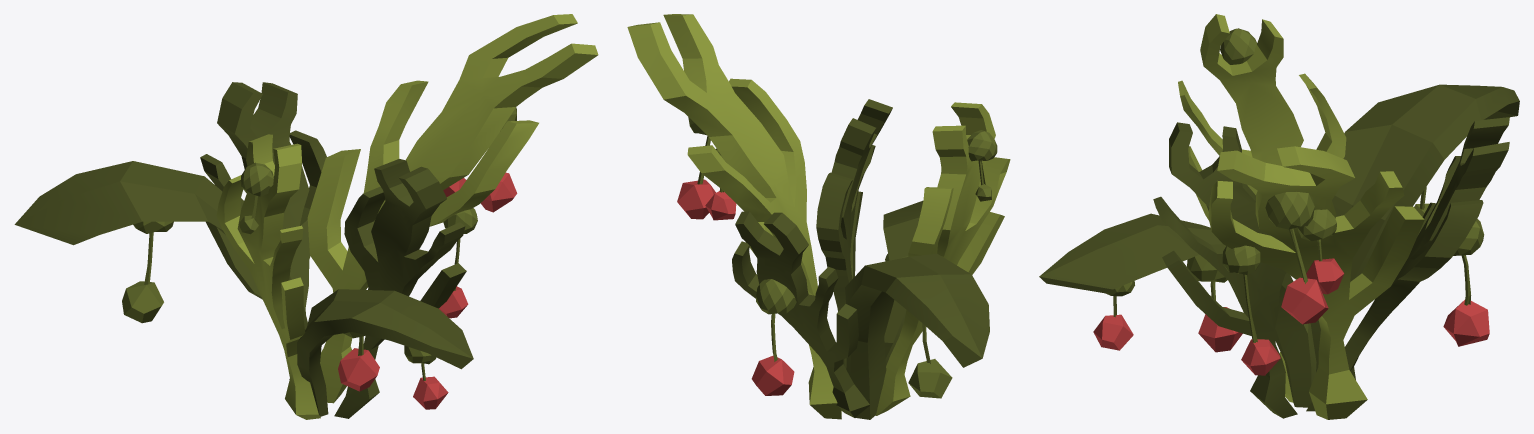
The model's file is ea_swamp_leaffruits_01a_pre_8_lev1.glb.
3 views of the same model, side by side, from view 1: azimuth 30°, elevation 25°; view 2: azimuth 150°, elevation 25°; view 3: azimuth 270°, elevation 25° (orthographic). The views are drawn at different scales.
Visible parts, largest first — view 1: ea_swamp_leaffruits_01a_pre_8_lev1; view 2: ea_swamp_leaffruits_01a_pre_8_lev1; view 3: ea_swamp_leaffruits_01a_pre_8_lev1.
Boxes of the visible parts, box(x1,y1,x2,y2) form: ea_swamp_leaffruits_01a_pre_8_lev1: box(14, 14, 598, 419); ea_swamp_leaffruits_01a_pre_8_lev1: box(627, 14, 1010, 419); ea_swamp_leaffruits_01a_pre_8_lev1: box(1039, 14, 1519, 419).
Size of the model in its own units: 3.38 by 2.41 by 2.73.
Materials: 1 (1 with a texture image).
